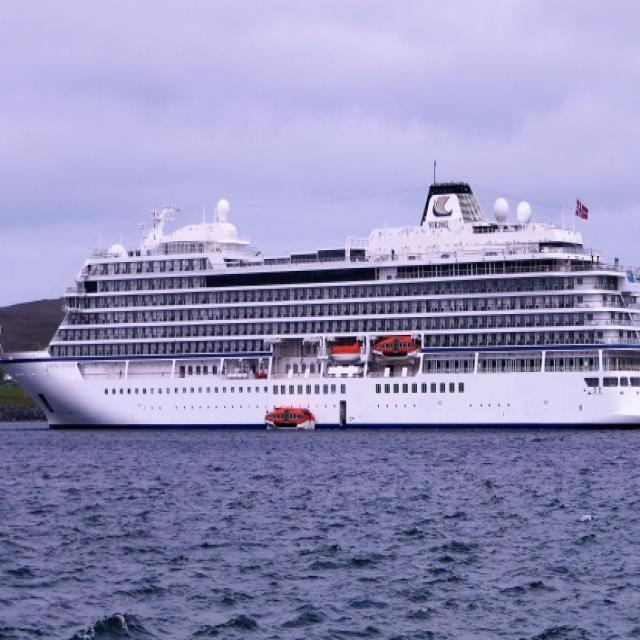cruises: (1, 180, 640, 440)
